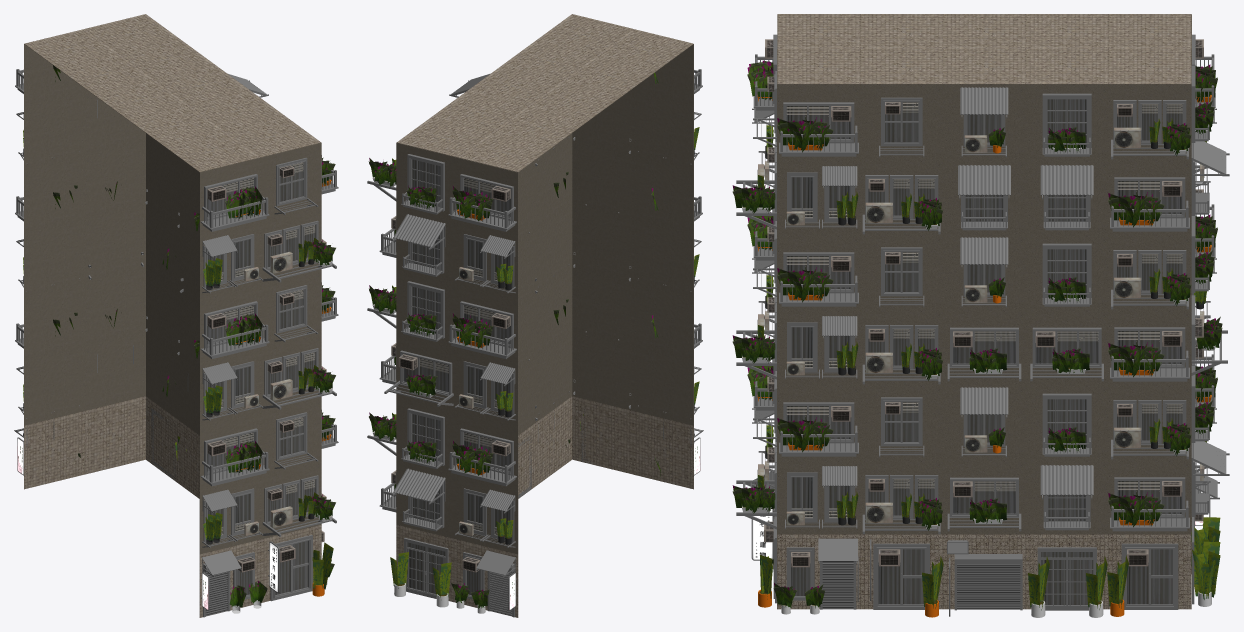
File: building_brick_d.glb
The picture shows the model from 3 angles, left to right: view 1: azimuth 30°, elevation 25°; view 2: azimuth 150°, elevation 25°; view 3: azimuth 270°, elevation 25°; orthographic projection. The views are drawn at different scales.
Parts seen in each view (by area): view 1: BrickBuilding_3; view 2: BrickBuilding_3; view 3: BrickBuilding_3.
Boxes of the visible parts, x1,y1,x2,y2 form: BrickBuilding_3: (14,14,338,617); BrickBuilding_3: (367,14,703,617); BrickBuilding_3: (732,14,1229,617).
Size of the model in its own units: 5.09 by 14.01 by 12.02.
6 materials, 6 textured.
